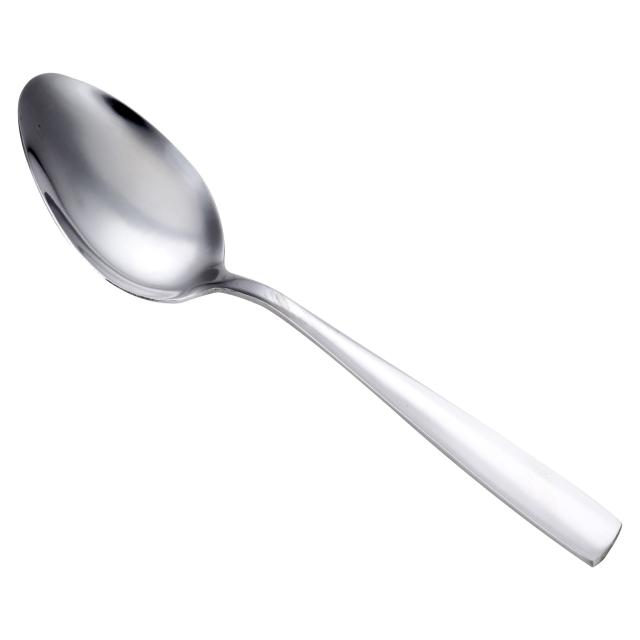spoon: (3, 43, 629, 566)
